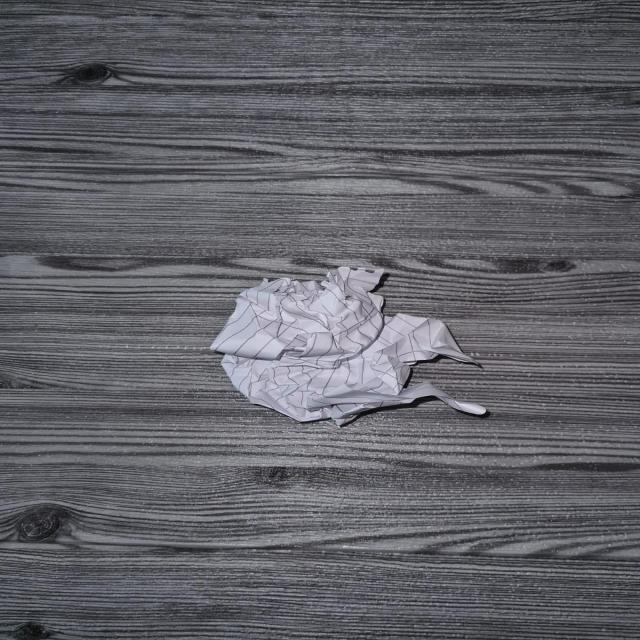trash: (209, 276, 491, 419)
